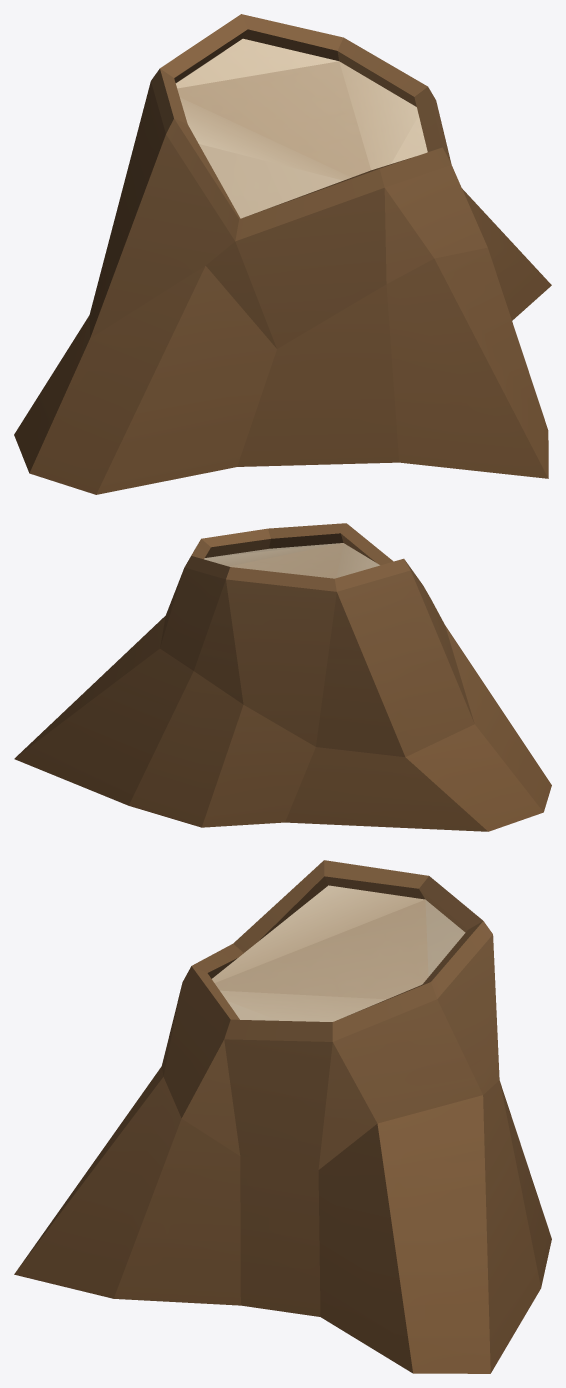
Rendered from stump_poplar.fbx.
3 renders of one model, top to bottom at view 1: azimuth 30°, elevation 25°; view 2: azimuth 150°, elevation 25°; view 3: azimuth 270°, elevation 25°, orthographic. The views are drawn at different scales.
Parts seen in each view (by area): view 1: stump_poplar; view 2: stump_poplar; view 3: stump_poplar.
Part boxes in pixels (x1,y1,x2,y2): stump_poplar: (14,14,551,494); stump_poplar: (14,523,551,831); stump_poplar: (14,860,551,1373).
Size of the model in its own units: 1.64 by 0.8407 by 1.29.
Materials: 1 (1 with a texture image).
